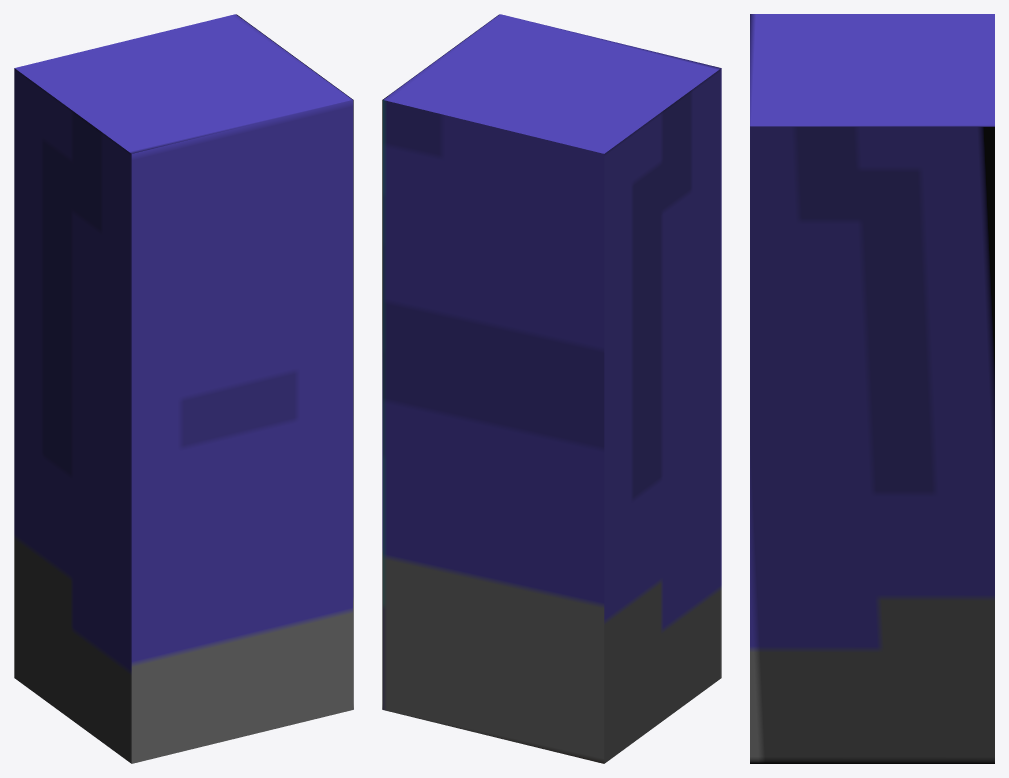
The model's file is vivicox.obj.
3 renders of one model, left to right at view 1: azimuth 30°, elevation 25°; view 2: azimuth 150°, elevation 25°; view 3: azimuth 270°, elevation 25°, orthographic. The views are drawn at different scales.
Parts seen in each view (by area): view 1: mesh01; view 2: mesh01; view 3: mesh01.
Part boxes in pixels (x1,y1,x2,y2): mesh01: (14, 14, 353, 763); mesh01: (382, 14, 721, 763); mesh01: (750, 14, 994, 763).
Bounding box in the file's own units: 1.14 × 2.99 × 1.04.
